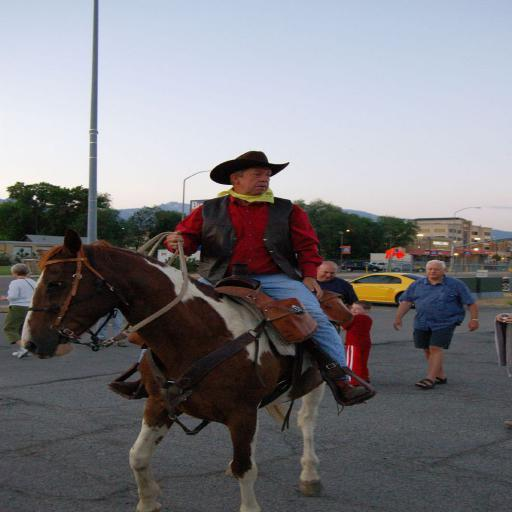horse: (18, 224, 342, 512)
